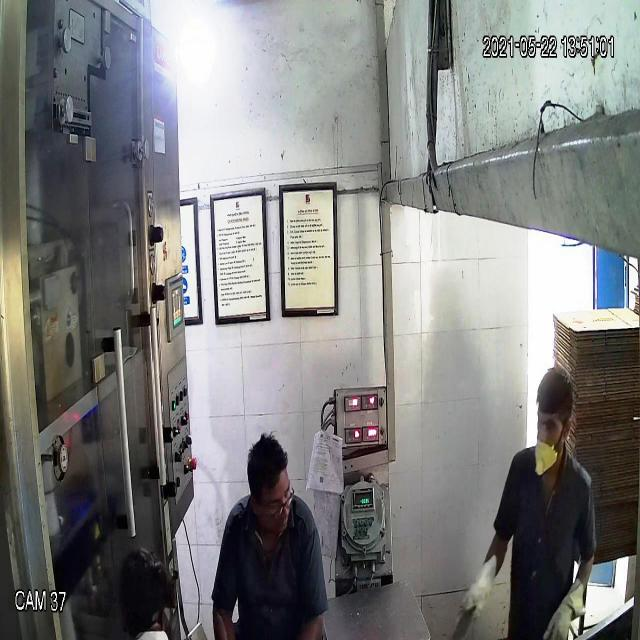glasses: (246, 484, 298, 526)
no-glass: (530, 409, 566, 438)
